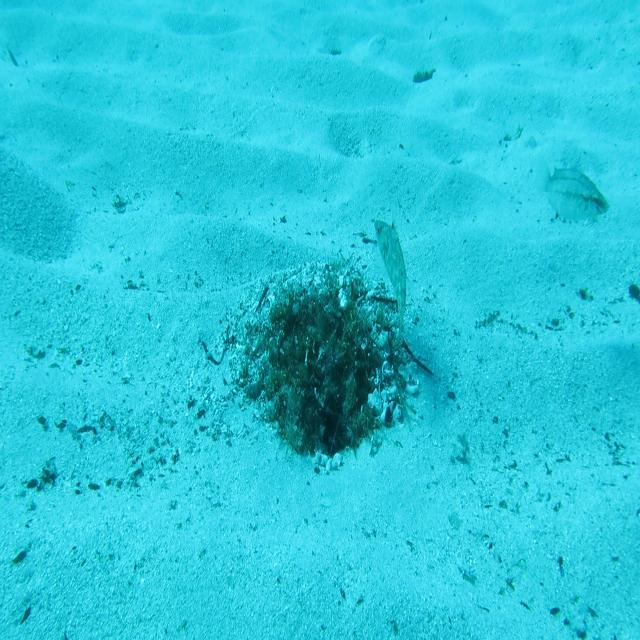BN: (371, 215, 416, 348)
core_nest: (295, 310, 334, 341)
female: (527, 152, 610, 229)
nest: (215, 238, 424, 486)
vegetation: (411, 64, 437, 86)
